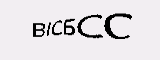І: (45, 19, 53, 38)
Б: (63, 14, 76, 39)
В: (32, 21, 47, 37)
С: (76, 12, 104, 41), (105, 10, 133, 39), (51, 16, 65, 37)
